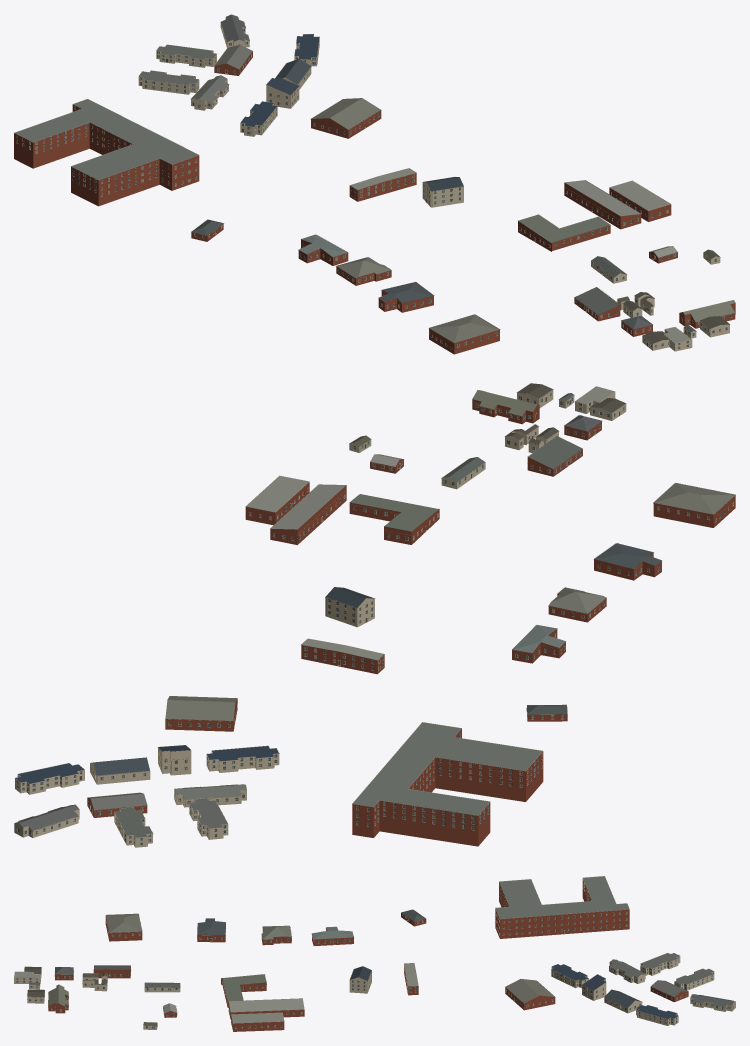
The picture shows the model from 3 angles, top to bottom: view 1: azimuth 30°, elevation 25°; view 2: azimuth 150°, elevation 25°; view 3: azimuth 270°, elevation 25°; orthographic projection. The views are drawn at different scales.
Visible parts, largest first — view 1: -1_6_599109299_0, -1_6_599110305_10; view 2: -1_6_599109299_0, -1_6_599110305_10; view 3: -1_6_599109299_0, -1_6_599110305_10.
Boxes of the visible parts, x1=… form: -1_6_599109299_0: x1=14, y1=14, x2=735, y2=354; -1_6_599110305_10: x1=138, y1=17, x2=729, y2=351; -1_6_599109299_0: x1=14, y1=383, x2=735, y2=846; -1_6_599110305_10: x1=14, y1=389, x2=626, y2=847; -1_6_599109299_0: x1=14, y1=876, x2=735, y2=1031; -1_6_599110305_10: x1=14, y1=956, x2=735, y2=1029.
Bounding box in the file's own units: 260 × 23.86 × 517.
